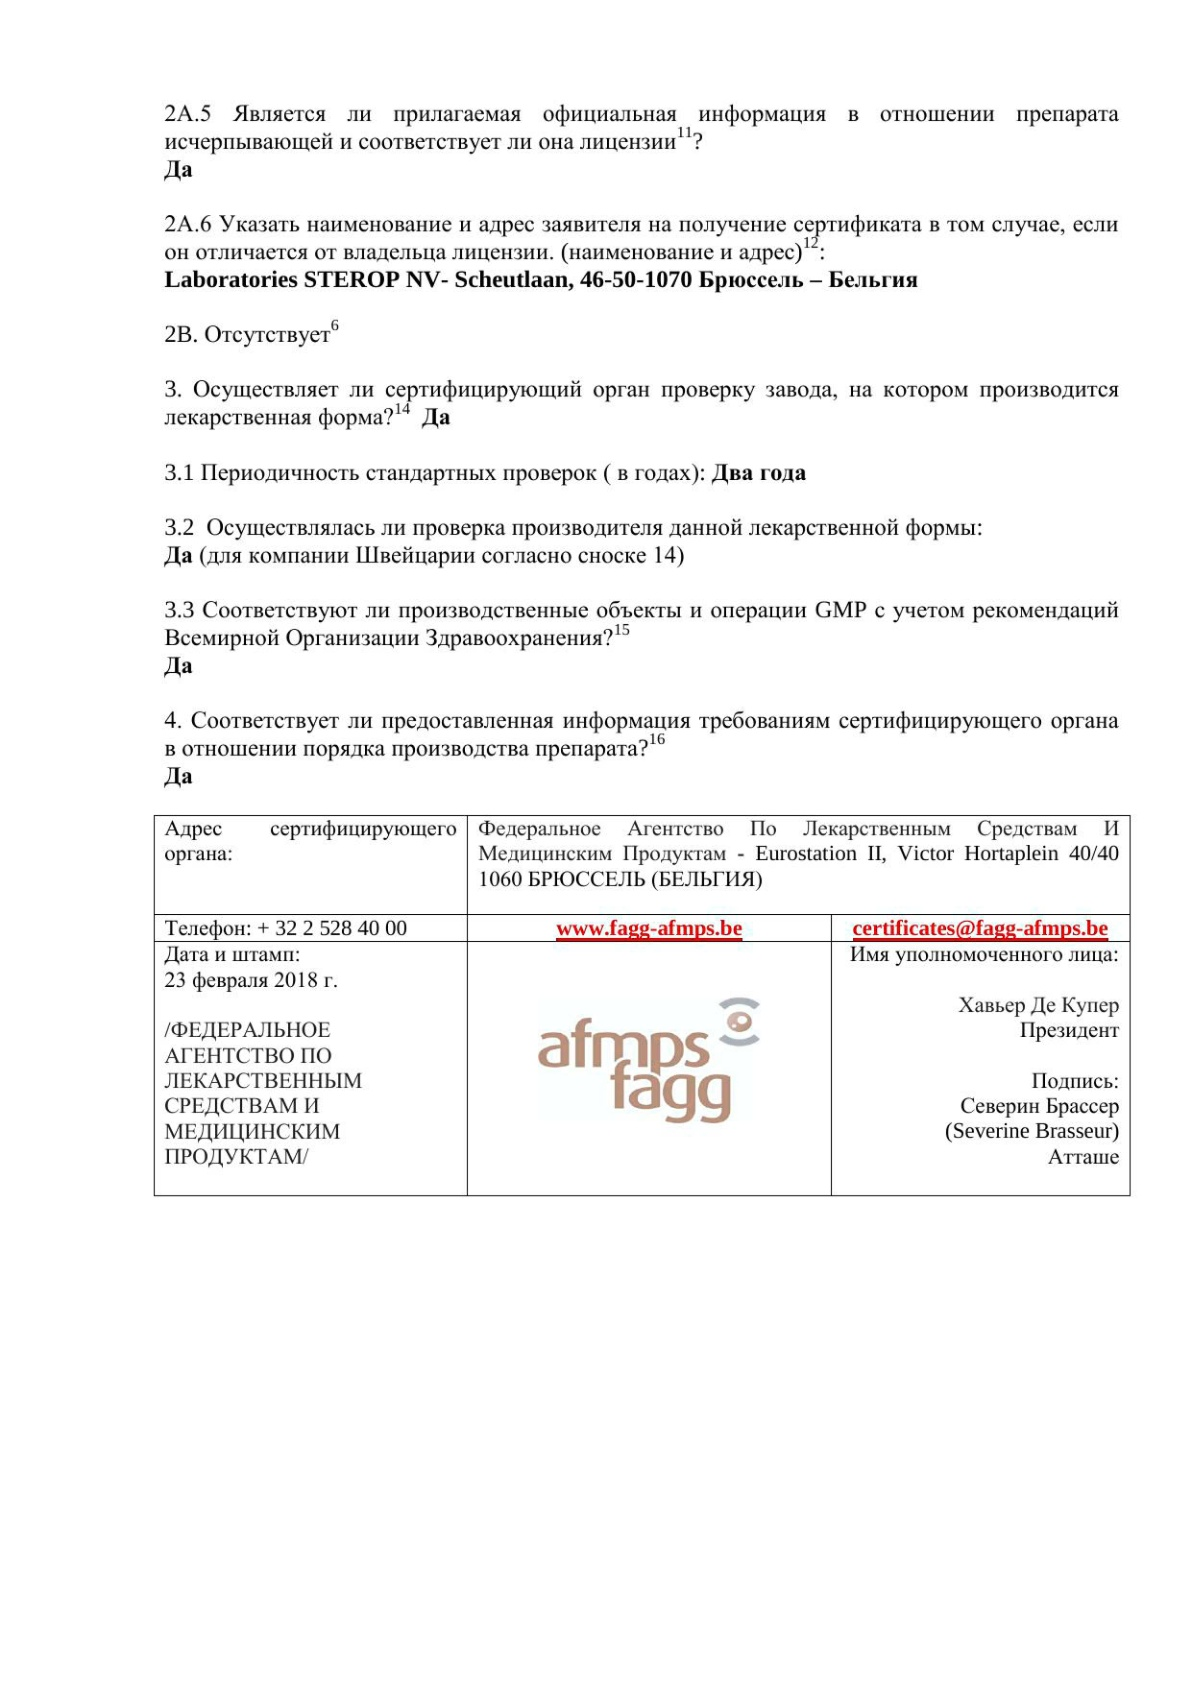merged_cells: (152, 814, 1131, 1197)
